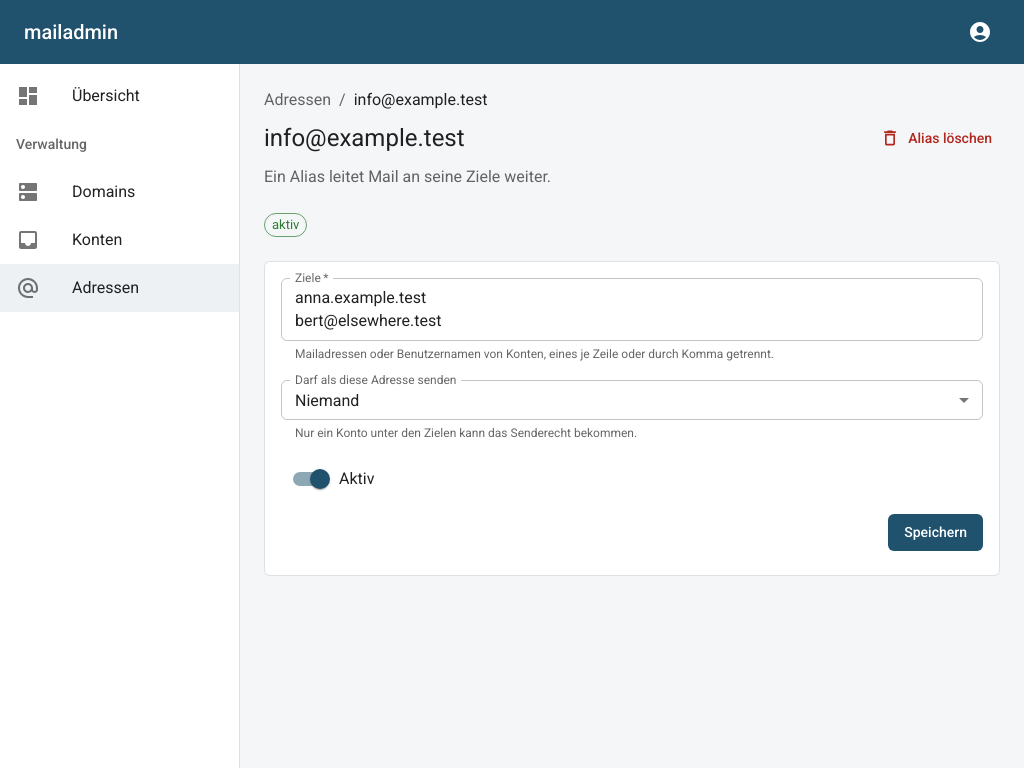
the alias page (A3) › offers a reload when the alias changed in the meantime
Expected: the text box labelled "Ziele *" is shown, [295,286,969,332]
Click the button "Speichern".
click(936, 533)  # box [888,514,983,551]
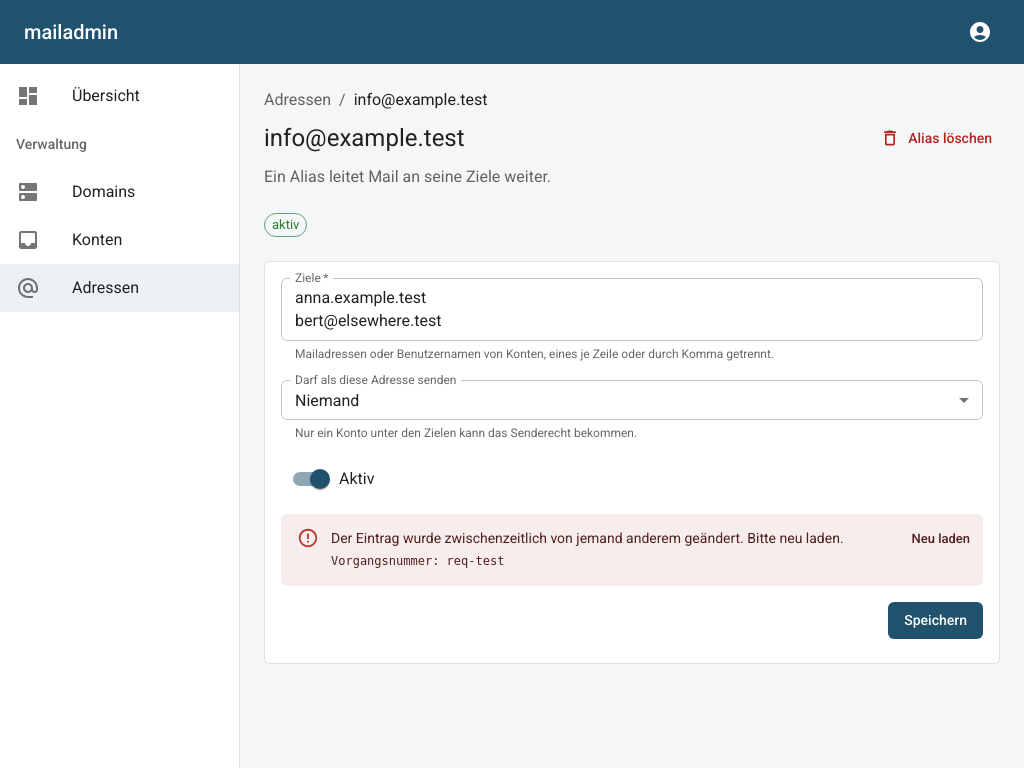
Expected: the text "zwischenzeitlich von jemand anderem geändert" is shown, [331,530,844,546]
Expected: the button "Neu laden" is shown, [906,524,975,555]
